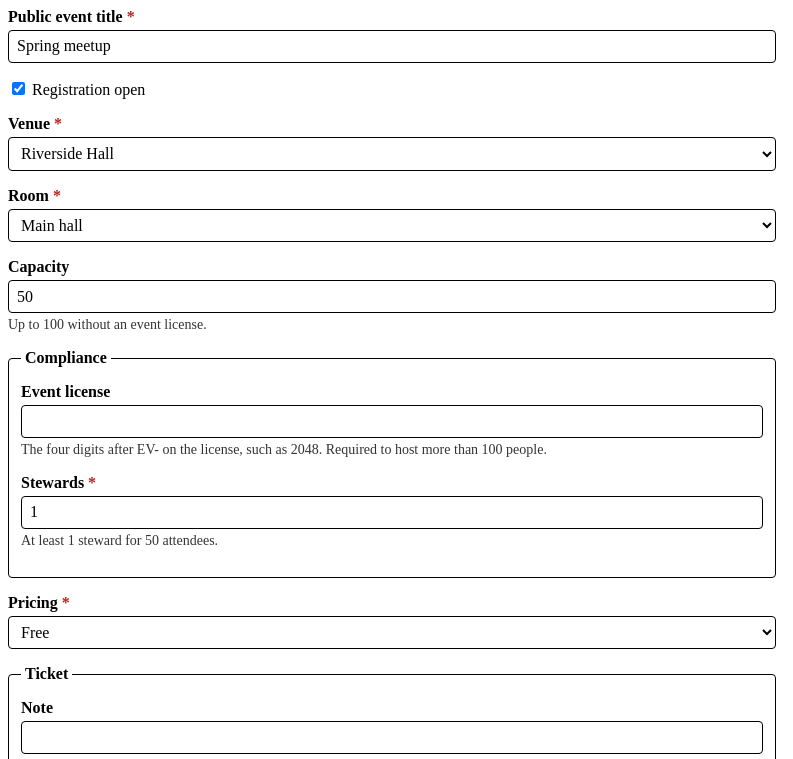
Test: the React form of example 3 › draws the paid ticket from its def when the pricing changes
Step 1. Select "Paid" in the dropdown labelled "Pricing*" → (392, 633), box [8, 616, 776, 650]
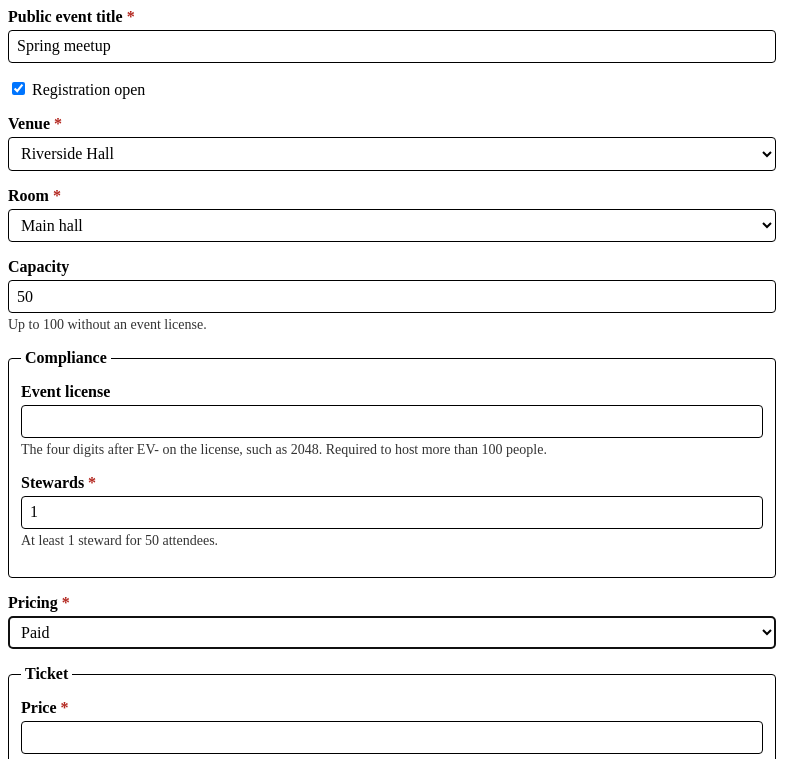
Expected: the label labelled "Note" is gone
